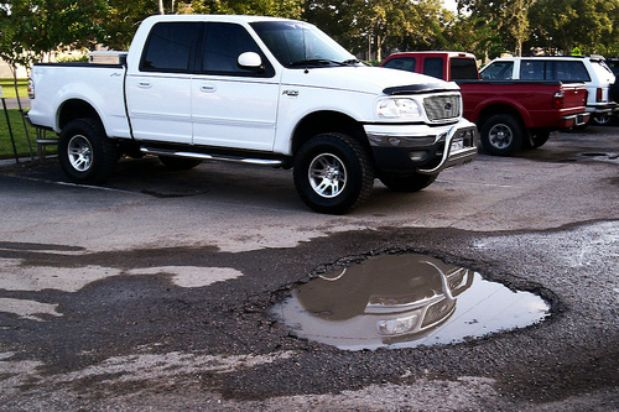pothole: (262, 241, 564, 356)
